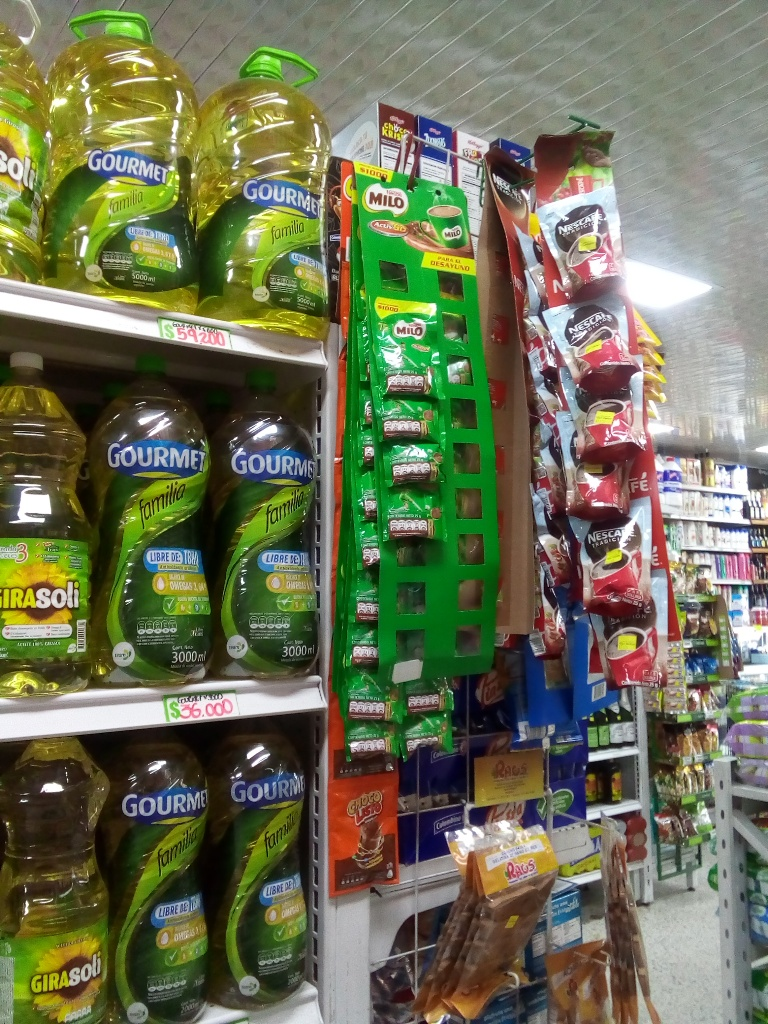COL0170103SOB02000: (327, 767, 404, 895)
